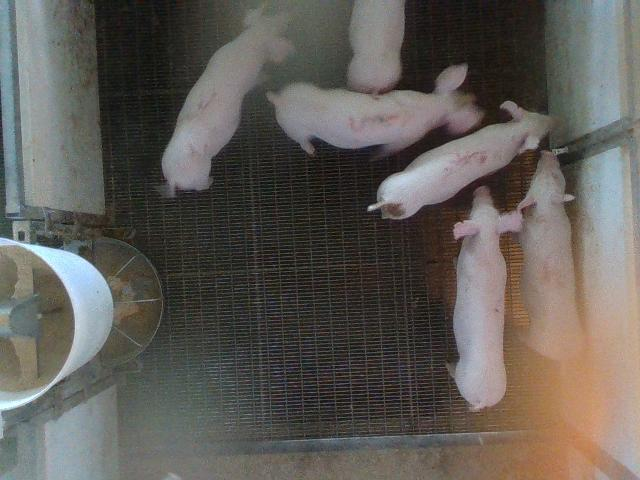pig-3: (268, 65, 484, 156)
pig-4: (518, 151, 584, 359)
pig-5: (368, 101, 554, 219)
